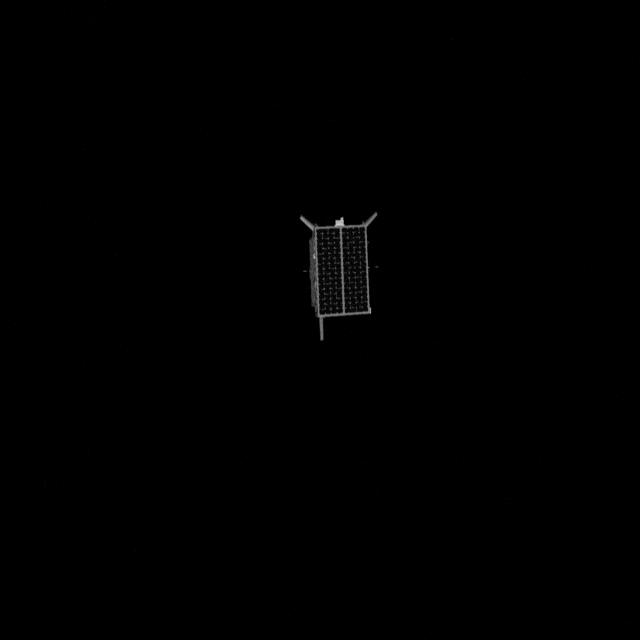medium_debris: (294, 200, 390, 334)
